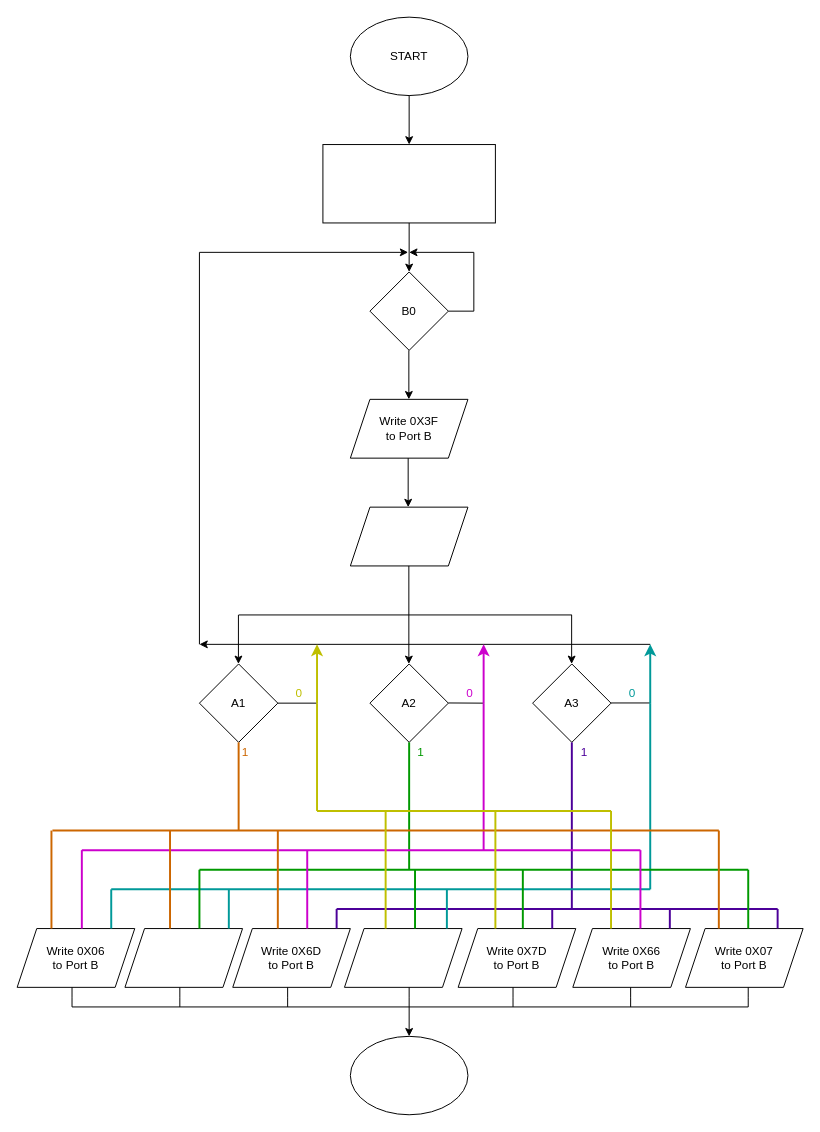
The diagram is 820 pixels wide and 1132 high, and some of its shapes have lost their labels. The centre of each missing label's shape, as x and y in pixels:
END: point 408,1075
Initialise Ports Port A1; A2; A3 & B0 as Inputs Port B1 to B7 as Outputs: point 408,183
Read Port A: point 408,536
Write 0X4F to Port B: point 183,957
Write 0X5B to Port B: point 402,957
